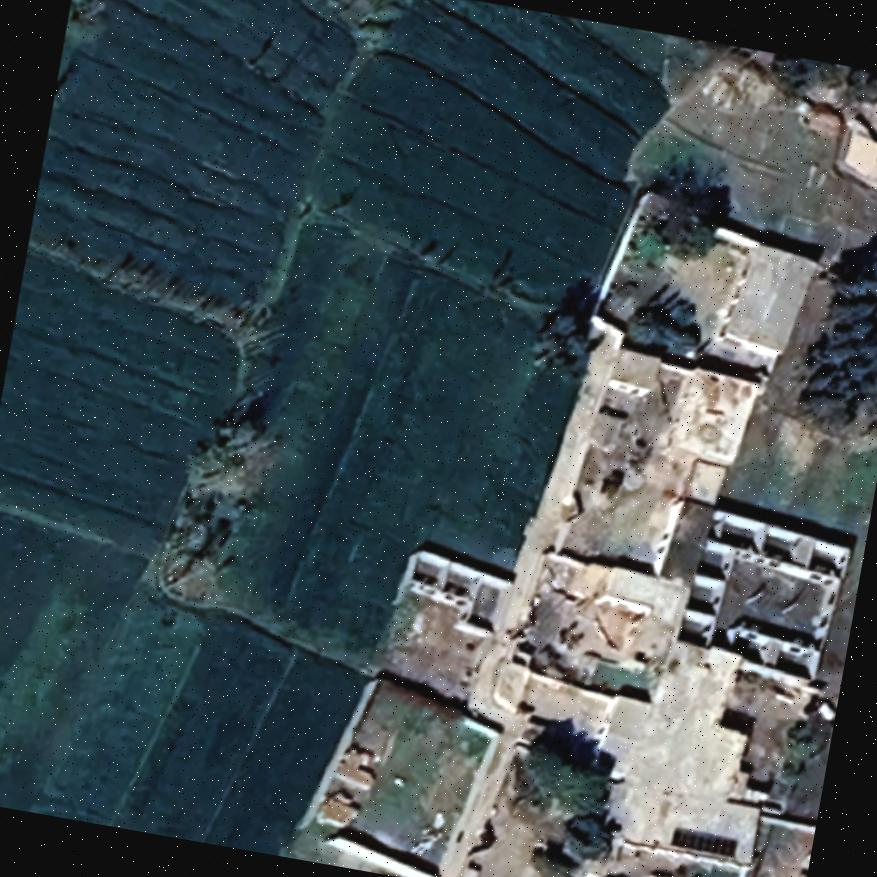Solarpanel: (664, 823, 742, 863)
